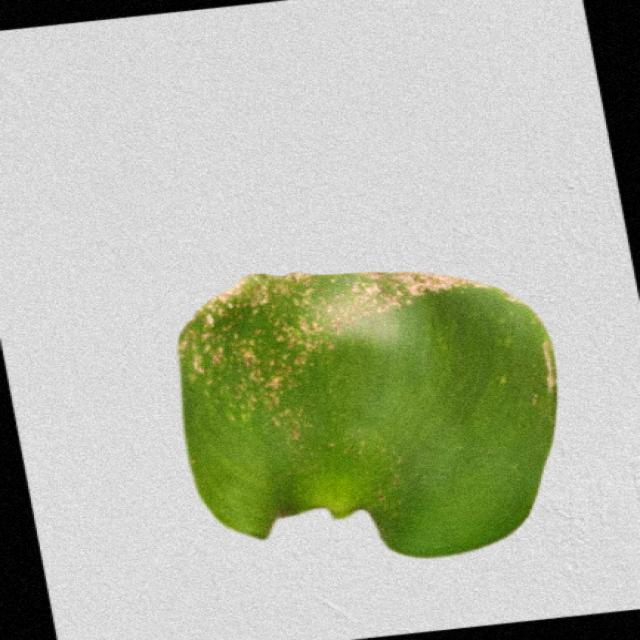daun berpenyakit bercak: (178, 273, 556, 558)
